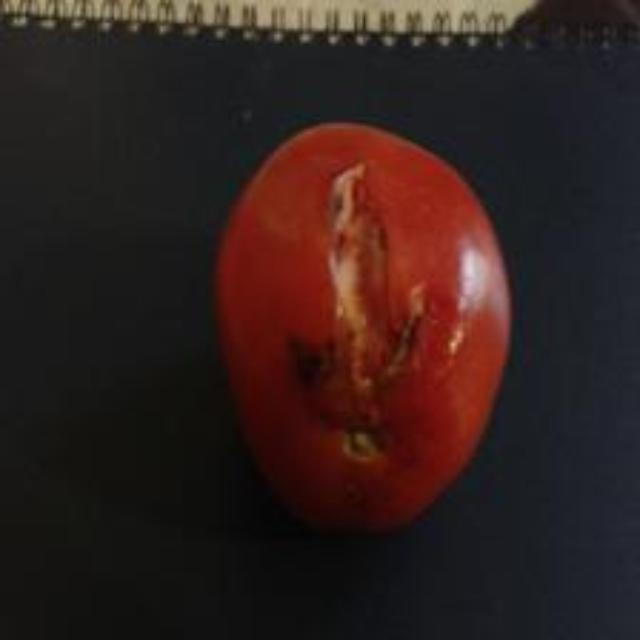defect: (216, 121, 521, 538)
